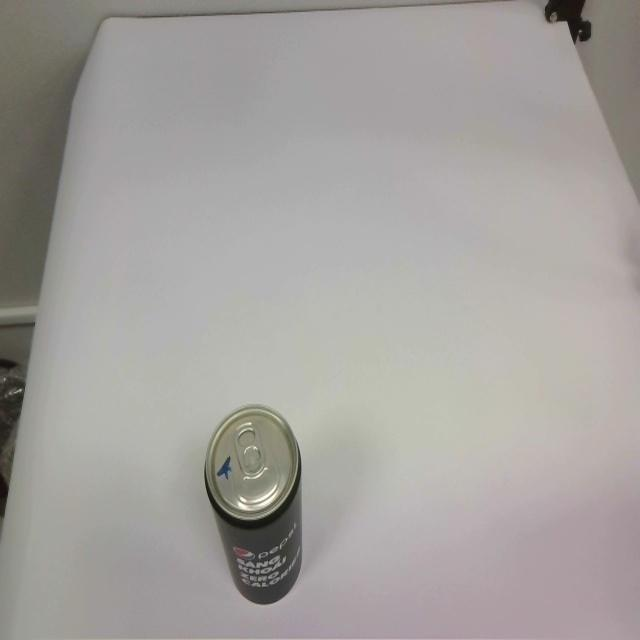debris: (203, 403, 303, 606)
